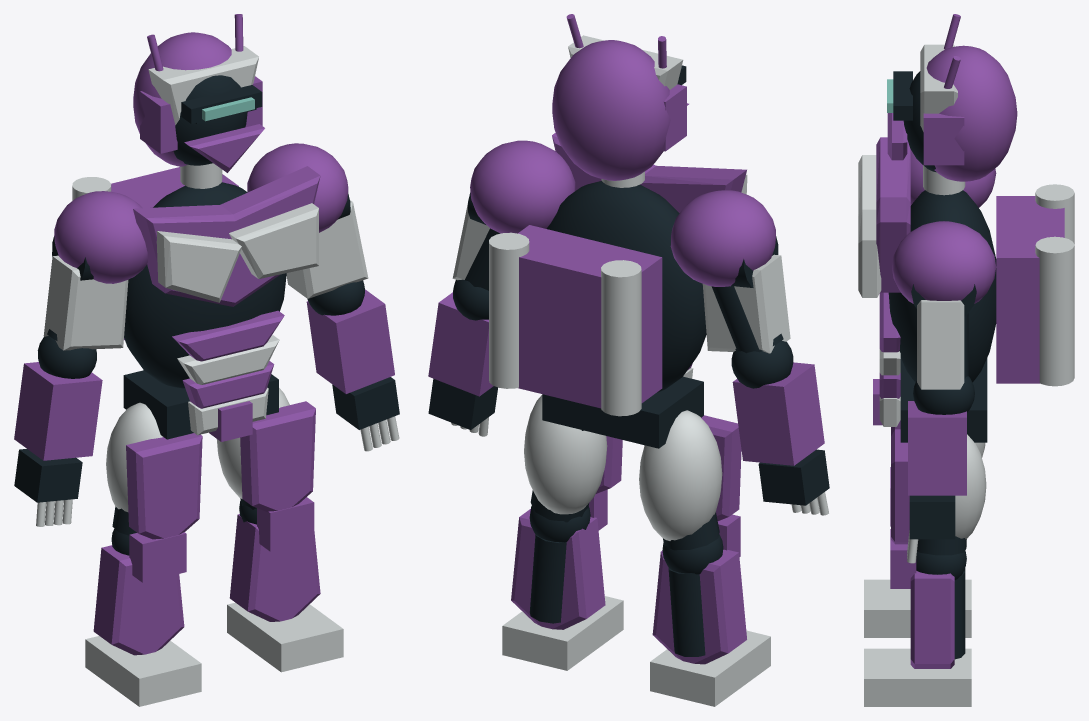
Rendered from cyber-engineer.glb.
3 views of the same model, side by side, from view 1: azimuth 30°, elevation 25°; view 2: azimuth 150°, elevation 25°; view 3: azimuth 270°, elevation 25° (orthographic). The views are drawn at different scales.
Visible parts, largest first — view 1: torso, leg-left, leg-right, head, arm-left, elbow-left, elbow-right, arm-right; view 2: torso, leg-left, leg-right, head, arm-left, elbow-left, arm-right, elbow-right; view 3: torso, leg-right, head, arm-right, elbow-right, leg-left, arm-left.
Part boxes in pixels (x1,y1,x2,y2): torso: [72, 166, 320, 441]; leg-left: [85, 402, 202, 706]; leg-right: [216, 388, 343, 672]; head: [133, 14, 264, 188]; arm-left: [43, 191, 147, 350]; elbow-left: [14, 336, 102, 526]; elbow-right: [306, 280, 399, 451]; arm-right: [247, 143, 368, 298]; torso: [489, 133, 747, 448]; leg-left: [639, 410, 770, 706]; leg-right: [502, 395, 623, 670]; head: [552, 14, 688, 187]; arm-left: [670, 190, 790, 353]; elbow-left: [731, 341, 829, 515]; arm-right: [452, 140, 575, 290]; elbow-right: [428, 279, 497, 436]; torso: [858, 137, 1074, 442]; leg-right: [864, 429, 986, 706]; head: [887, 14, 1017, 195]; arm-right: [892, 221, 996, 389]; elbow-right: [907, 376, 974, 563]; leg-left: [864, 420, 985, 637]; arm-left: [910, 150, 996, 207].
Size of the model in its own units: 2.56 by 4.2 by 1.32.
